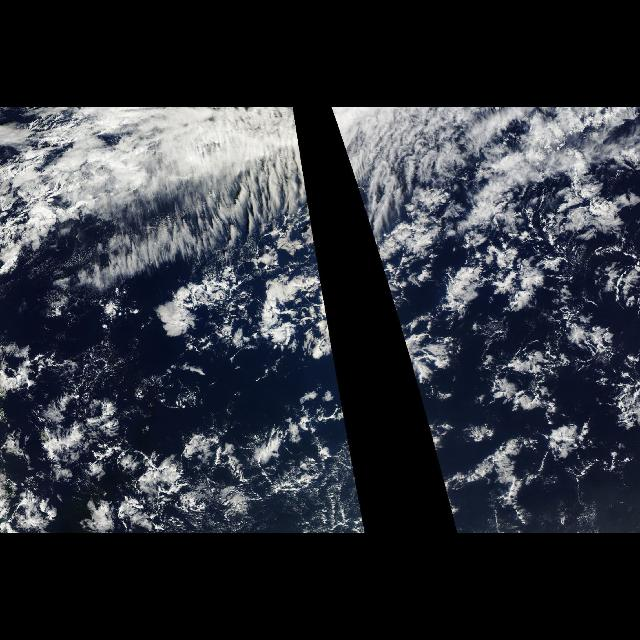Flower: (406, 229, 640, 505), (121, 272, 342, 484)
Gravel: (484, 241, 640, 521), (38, 392, 262, 530)
